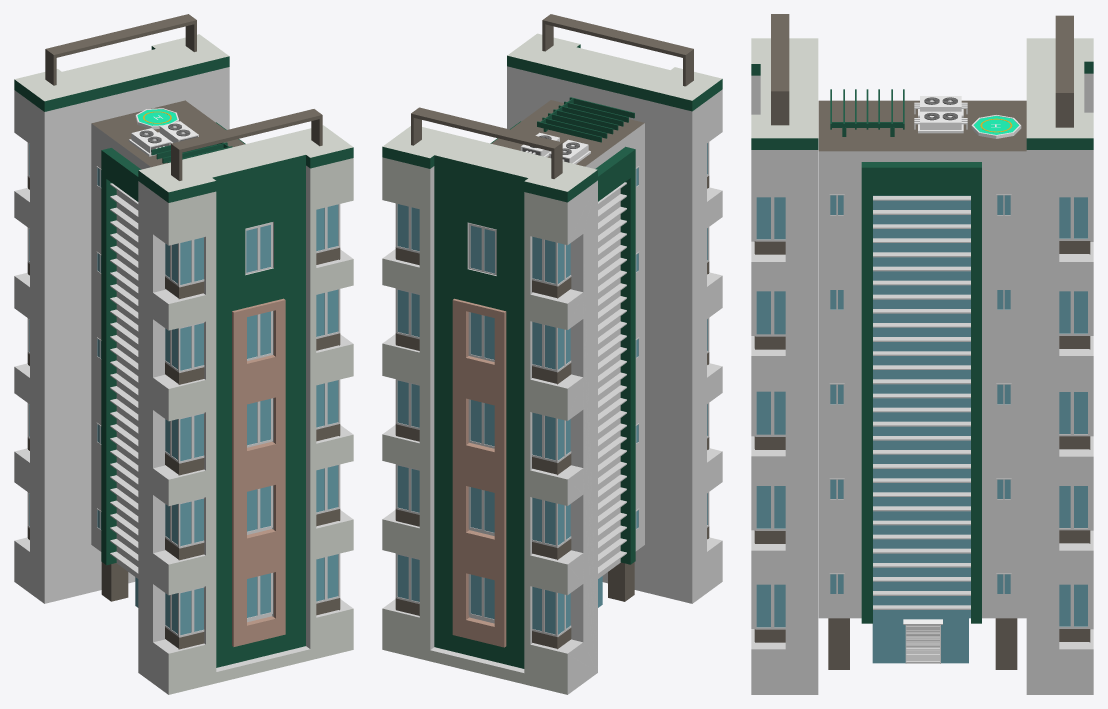
The model's file is Building_07.glb.
3 views of the same model, side by side, from view 1: azimuth 30°, elevation 25°; view 2: azimuth 150°, elevation 25°; view 3: azimuth 270°, elevation 25° (orthographic). The views are drawn at different scales.
Parts seen in each view (by area): view 1: Cube.13445, Cube.13433, Cube.13443, Cube.13444, Cube.13439, Cube.13441, Plane.1848, Cube.13436, Cube.13435, Plane.1838, Plane.1839, Plane.1841 (+9 smaller); view 2: Cube.13433, Cube.13445, Cube.13434, Cube.13444, Cube.13439, Cube.13441, Plane.1825, Cube.13435, Cube.13436, Plane.1826, Plane.1827, Plane.1829 (+8 smaller); view 3: Cube.13444, Cube.13433, Cube.13445, Cube.13438, Cube.13442, Cube.13437, Cube.13440, Cube.13435, Cube.13436, Plane.1847, Plane.1843, Plane.1846 (+9 smaller).
Part boxes in pixels (x1,y1,x2,y2): Cube.13445: (138, 125, 353, 694); Cube.13433: (14, 34, 229, 603); Cube.13443: (232, 298, 285, 646); Cube.13444: (91, 100, 244, 578); Cube.13439: (101, 148, 140, 565); Cube.13441: (110, 183, 138, 574); Plane.1848: (245, 222, 272, 619); Cube.13436: (171, 109, 322, 180); Cube.13435: (45, 14, 196, 85); Plane.1838: (165, 322, 204, 384); Plane.1839: (165, 413, 204, 475); Plane.1841: (165, 497, 204, 560); Cube.13433: (382, 126, 597, 694); Cube.13445: (507, 33, 722, 603); Cube.13434: (452, 298, 506, 647); Cube.13444: (491, 97, 644, 578); Cube.13439: (595, 146, 635, 564); Cube.13441: (598, 182, 626, 574); Plane.1825: (468, 223, 496, 621); Cube.13435: (411, 107, 562, 178); Cube.13436: (542, 14, 693, 86); Plane.1826: (532, 321, 571, 384); Plane.1827: (532, 412, 571, 475); Plane.1829: (532, 497, 571, 560); Cube.13444: (818, 89, 1026, 618); Cube.13433: (1026, 38, 1093, 694); Cube.13445: (751, 38, 818, 694); Cube.13438: (873, 196, 970, 609); Cube.13442: (861, 162, 981, 623); Cube.13437: (872, 618, 968, 663); Cube.13440: (828, 618, 1017, 669); Cube.13435: (1055, 15, 1073, 127); Cube.13436: (771, 14, 789, 125); Plane.1847: (754, 291, 785, 349); Plane.1843: (754, 584, 785, 642); Plane.1846: (754, 391, 785, 449).
Bounding box in the file's own units: 0.2971 × 0.8187 × 0.4291.
